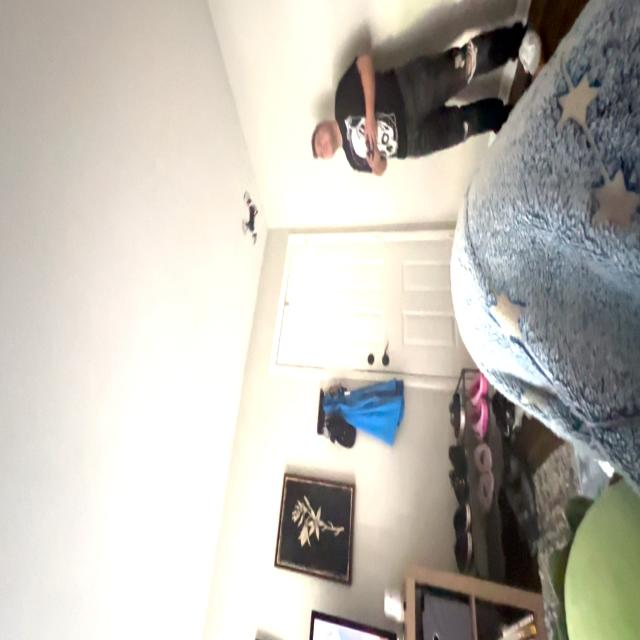drone: (237, 170, 264, 259)
